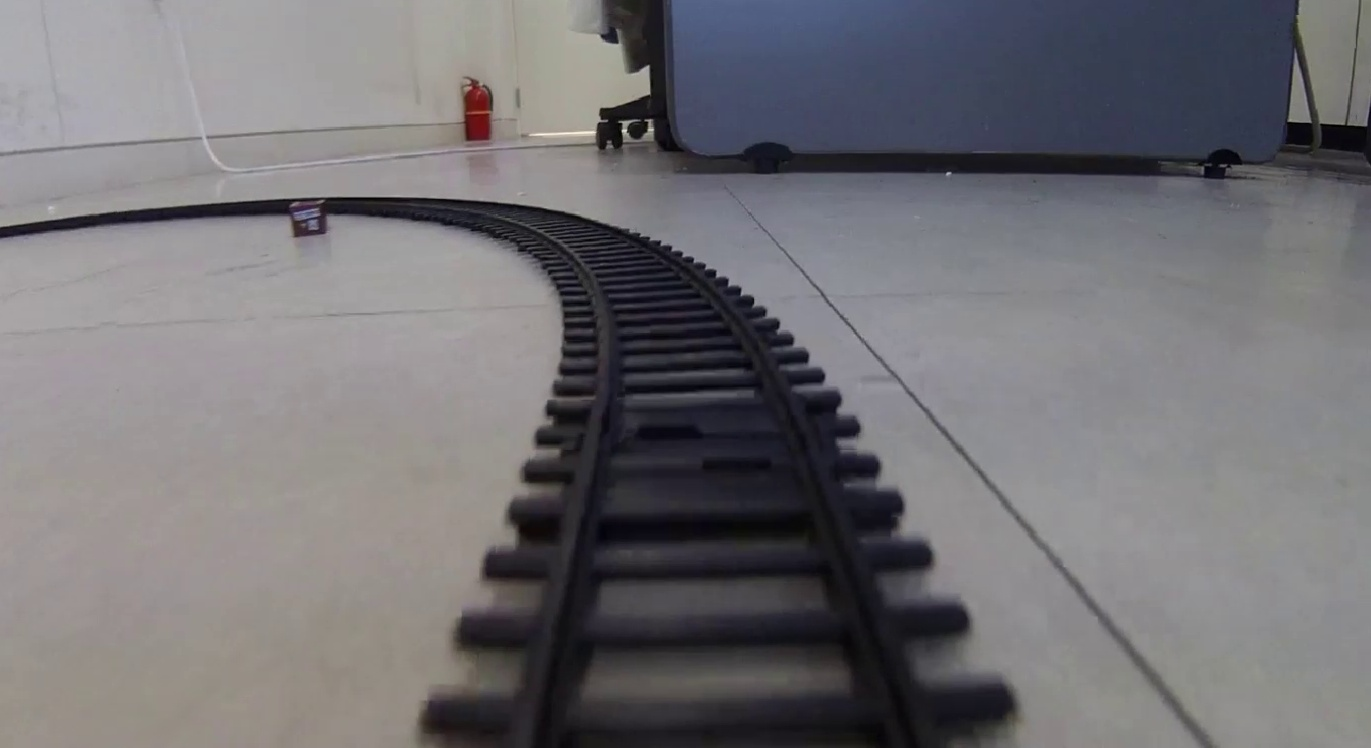box: (288, 199, 328, 236)
